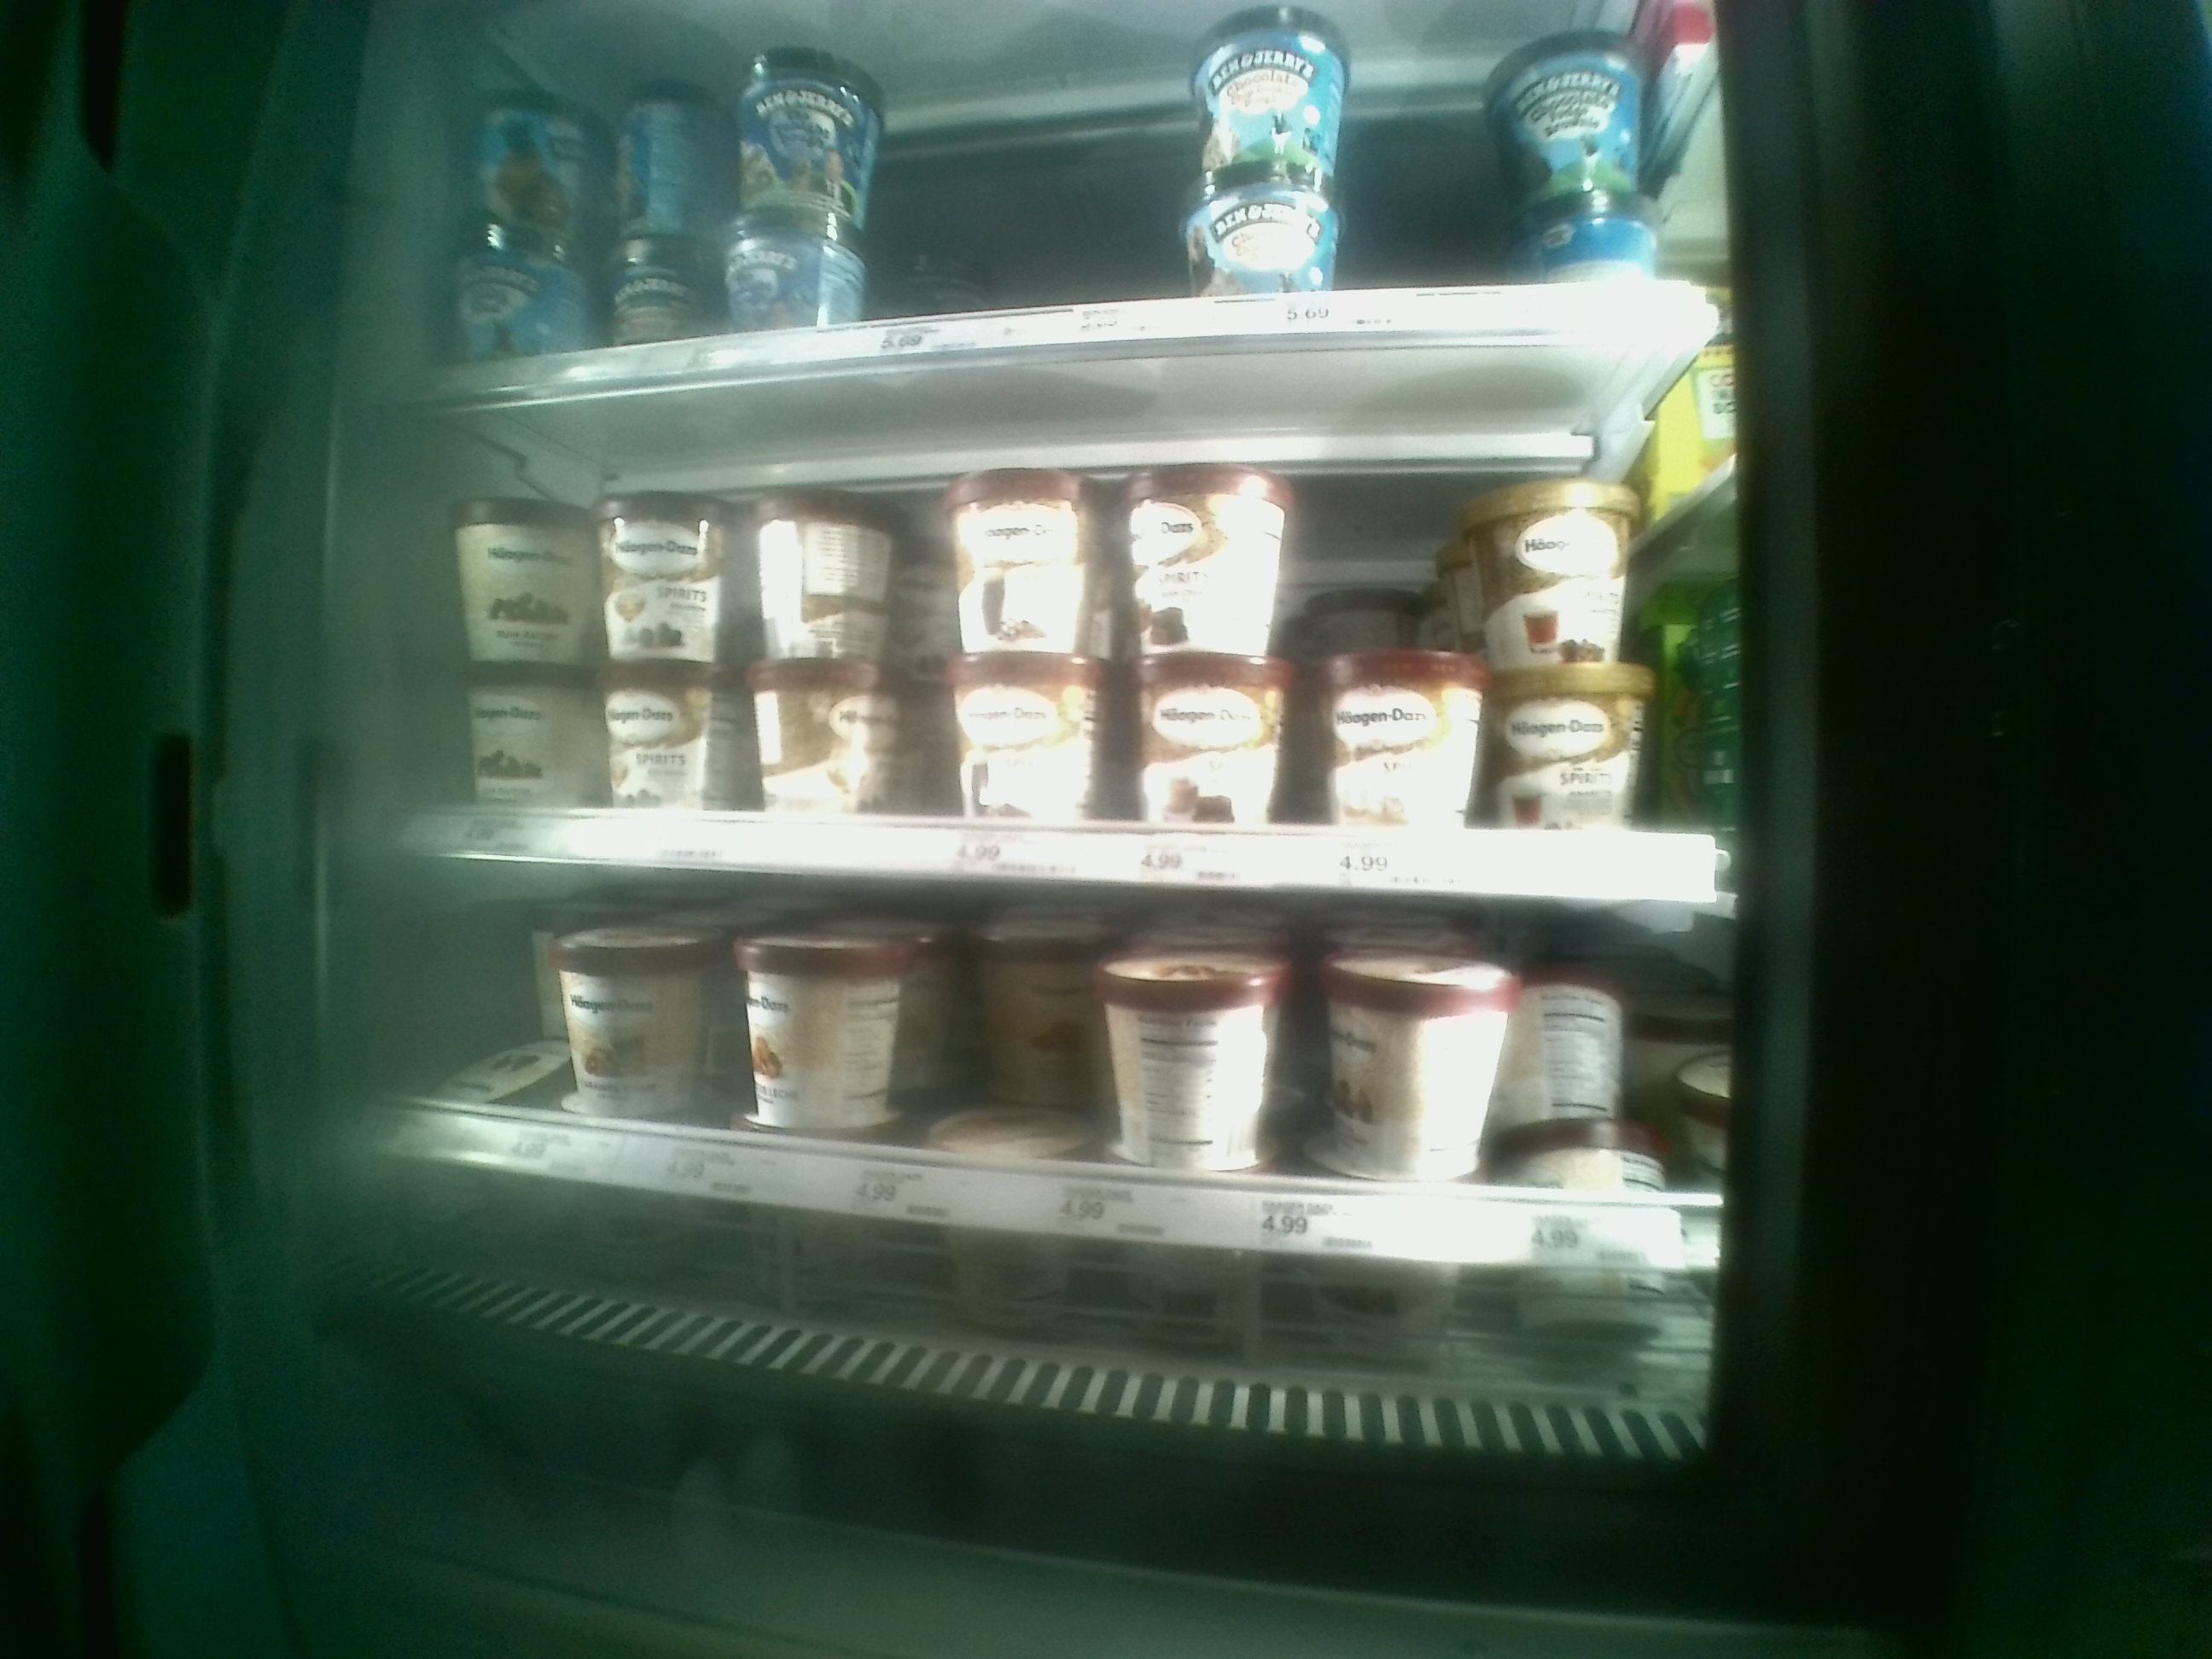shelf: (388, 317, 1740, 913), (387, 864, 1743, 1434)
